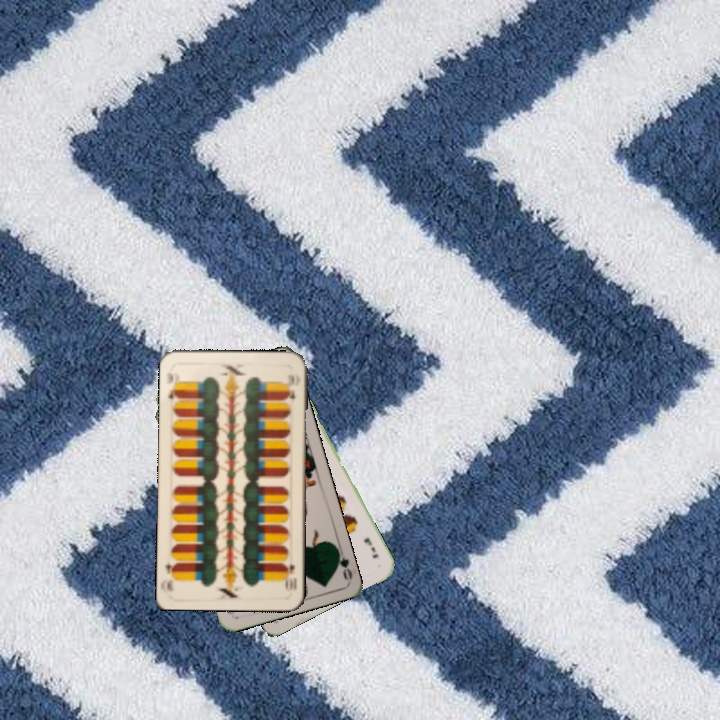E10: (162, 369, 182, 403), (280, 560, 299, 594)
E7: (359, 533, 381, 561)
GO: (332, 542, 355, 582)
